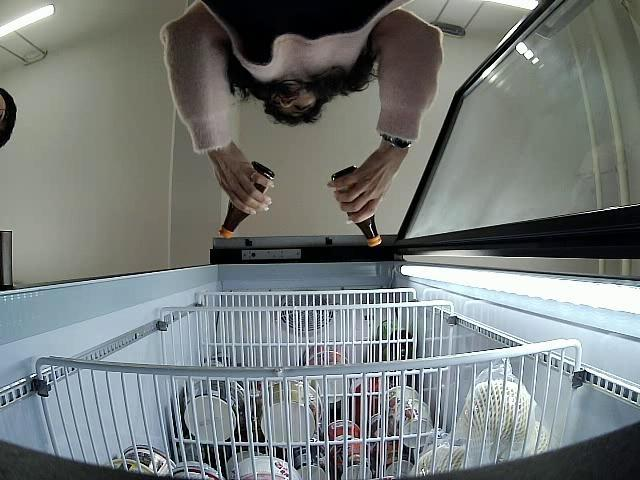17_vita500: (330, 163, 383, 249), (220, 160, 274, 239)
